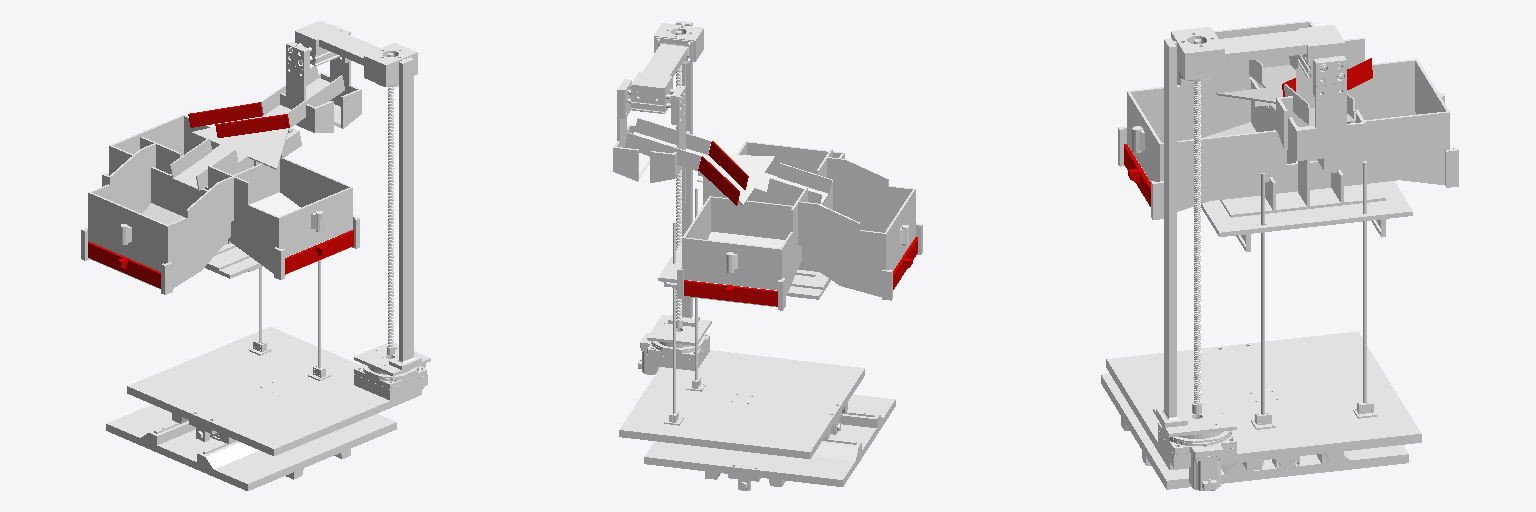
The robot description file, URDF, robot "最后的最后的最后":
<?xml version="1.0" encoding="utf-8"?>
<!-- This URDF was automatically created by SolidWorks to URDF Exporter! Originally created by Stephen Brawner (brawner@gmail.com) 
     Commit Version: 1.6.0-4-g7f85cfe  Build Version: 1.6.7995.38578
     For more information, please see http://wiki.ros.org/sw_urdf_exporter -->
<robot
  name="最后的最后的最后">
  <link
    name="base_link">
    <inertial>
      <origin
        xyz="0.24110979490953 0.291822568049567 0.103607705427784"
        rpy="0 0 0" />
      <mass
        value="4.4265066175815" />
      <inertia
        ixx="0.0417916522581897"
        ixy="0.00672032992907354"
        ixz="3.69122969213001E-07"
        iyy="0.0177326943238271"
        iyz="1.00168760077157E-07"
        izz="0.055291782670404" />
    </inertial>
    <visual>
      <origin
        xyz="0 0 0"
        rpy="0 0 0" />
      <geometry>
        <mesh
          filename="package://最后的最后的最后/meshes/base_link.STL" />
      </geometry>
      <material
        name="">
        <color
          rgba="0.792156862745098 0.819607843137255 0.933333333333333 1" />
      </material>
    </visual>
    <collision>
      <origin
        xyz="0 0 0"
        rpy="0 0 0" />
      <geometry>
        <mesh
          filename="package://最后的最后的最后/meshes/base_link.STL" />
      </geometry>
    </collision>
  </link>
  <link
    name="f-b">
    <inertial>
      <origin
        xyz="0.00232543214158942 0.040761977585475 0.248910014984453"
        rpy="0 0 0" />
      <mass
        value="7.93755284995886" />
      <inertia
        ixx="0.128811100574651"
        ixy="-3.47944796585953E-09"
        ixz="4.49420460872305E-09"
        iyy="0.293446531196313"
        iyz="-2.31633682786989E-06"
        izz="0.165800196892633" />
    </inertial>
    <visual>
      <origin
        xyz="0 0 0"
        rpy="0 0 0" />
      <geometry>
        <mesh
          filename="package://最后的最后的最后/meshes/f-b.STL" />
      </geometry>
      <material
        name="">
        <color
          rgba="1 1 1 1" />
      </material>
    </visual>
    <collision>
      <origin
        xyz="0 0 0"
        rpy="0 0 0" />
      <geometry>
        <mesh
          filename="package://最后的最后的最后/meshes/f-b.STL" />
      </geometry>
    </collision>
  </link>
  <joint
    name="f-b"
    type="prismatic">
    <origin
      xyz="0.2077 0.42305 0.181"
      rpy="1.5708 0 0.25473" />
    <parent
      link="base_link" />
    <child
      link="f-b" />
    <axis
      xyz="0 0 1" />
    <limit
      lower="-0.2"
      upper="0.1"
      effort="0"
      velocity="0" />
  </joint>
  <link
    name="l-r">
    <inertial>
      <origin
        xyz="0.0735939876093558 0.0342987919570049 0.282831564687026"
        rpy="0 0 0" />
      <mass
        value="7.18694221364729" />
      <inertia
        ixx="0.131255772845775"
        ixy="-1.10546393219946E-10"
        ixz="1.53790058126605E-06"
        iyy="0.255549654916926"
        iyz="1.96021269348277E-05"
        izz="0.128346911633879" />
    </inertial>
    <visual>
      <origin
        xyz="0 0 0"
        rpy="0 0 0" />
      <geometry>
        <mesh
          filename="package://最后的最后的最后/meshes/l-r.STL" />
      </geometry>
      <material
        name="">
        <color
          rgba="1 1 1 1" />
      </material>
    </visual>
    <collision>
      <origin
        xyz="0 0 0"
        rpy="0 0 0" />
      <geometry>
        <mesh
          filename="package://最后的最后的最后/meshes/l-r.STL" />
      </geometry>
    </collision>
  </link>
  <joint
    name="l--r"
    type="prismatic">
    <origin
      xyz="-0.1775 0.079 0.35"
      rpy="0 1.5708 0" />
    <parent
      link="f-b" />
    <child
      link="l-r" />
    <axis
      xyz="0 0 1" />
    <limit
      lower="-0.2"
      upper="0.1"
      effort="0"
      velocity="0" />
  </joint>
  <link
    name="claw-roll">
    <inertial>
      <origin
        xyz="-0.0381498375439622 0.164494797429646 -0.306552876405141"
        rpy="0 0 0" />
      <mass
        value="0.810010929466262" />
      <inertia
        ixx="0.0400940649123933"
        ixy="2.41949992283745E-05"
        ixz="-4.50428130335359E-05"
        iyy="0.0312370200213338"
        iyz="0.016460500144677"
        izz="0.00936534310020475" />
    </inertial>
    <visual>
      <origin
        xyz="0 0 0"
        rpy="0 0 0" />
      <geometry>
        <mesh
          filename="package://最后的最后的最后/meshes/claw-roll.STL" />
      </geometry>
      <material
        name="">
        <color
          rgba="1 1 1 1" />
      </material>
    </visual>
    <collision>
      <origin
        xyz="0 0 0"
        rpy="0 0 0" />
      <geometry>
        <mesh
          filename="package://最后的最后的最后/meshes/claw-roll.STL" />
      </geometry>
    </collision>
  </link>
  <joint
    name="claw-roll"
    type="revolute">
    <origin
      xyz="-0.095 0.102 0.4696"
      rpy="1.0786 0 0" />
    <parent
      link="l-r" />
    <child
      link="claw-roll" />
    <axis
      xyz="0 0.47256 -0.8813" />
    <limit
      lower="-1.57"
      upper="0"
      effort="0"
      velocity="0" />
  </joint>
  <link
    name="claw-lift">
    <inertial>
      <origin
        xyz="0.573066062046741 0.179487836867311 1.16603105620362"
        rpy="0 0 0" />
      <mass
        value="1.22007548020093" />
      <inertia
        ixx="0.00294757862136333"
        ixy="0.000466412129818511"
        ixz="-5.82231471563978E-08"
        iyy="0.00127780456123567"
        iyz="2.12117265150278E-07"
        izz="0.00377057018482898" />
    </inertial>
    <visual>
      <origin
        xyz="0 0 0"
        rpy="0 0 0" />
      <geometry>
        <mesh
          filename="package://最后的最后的最后/meshes/claw-lift.STL" />
      </geometry>
      <material
        name="">
        <color
          rgba="1 1 1 1" />
      </material>
    </visual>
    <collision>
      <origin
        xyz="0 0 0"
        rpy="0 0 0" />
      <geometry>
        <mesh
          filename="package://最后的最后的最后/meshes/claw-lift.STL" />
      </geometry>
    </collision>
  </link>
  <joint
    name="claw-lift"
    type="prismatic">
    <origin
      xyz="0.08794 -0.69958 0.035636"
      rpy="3.0073 -0.47497 1.8581" />
    <parent
      link="claw-roll" />
    <child
      link="claw-lift" />
    <axis
      xyz="0 0 1" />
    <limit
      lower="-0.5"
      upper="0"
      effort="0"
      velocity="0" />
  </joint>
  <link
    name="left-claw">
    <inertial>
      <origin
        xyz="0.598000912831375 0.329375717352144 1.04299128665714"
        rpy="0 0 0" />
      <mass
        value="0.321917998526229" />
      <inertia
        ixx="0.000949924691069615"
        ixy="9.89963940288547E-05"
        ixz="-7.93806809192272E-05"
        iyy="0.000595519535464749"
        iyz="-2.06811147189091E-05"
        izz="0.000632016797269796" />
    </inertial>
    <visual>
      <origin
        xyz="0 0 0"
        rpy="0 0 0" />
      <geometry>
        <mesh
          filename="package://最后的最后的最后/meshes/left-claw.STL" />
      </geometry>
      <material
        name="">
        <color
          rgba="1 1 1 1" />
      </material>
    </visual>
    <collision>
      <origin
        xyz="0 0 0"
        rpy="0 0 0" />
      <geometry>
        <mesh
          filename="package://最后的最后的最后/meshes/left-claw.STL" />
      </geometry>
    </collision>
  </link>
  <joint
    name="left-claw"
    type="prismatic">
    <origin
      xyz="0 0 0"
      rpy="0 0 0" />
    <parent
      link="claw-lift" />
    <child
      link="left-claw" />
    <axis
      xyz="-0.96773 -0.25199 0" />
    <limit
      lower="0"
      upper="0.02"
      effort="0"
      velocity="0" />
  </joint>
  <link
    name="right-claw">
    <inertial>
      <origin
        xyz="0.478195656747067 0.298181503848523 1.04299128599104"
        rpy="0 0 0" />
      <mass
        value="0.321917997107331" />
      <inertia
        ixx="0.00094992468254873"
        ixy="9.89964000404664E-05"
        ixz="7.93806818853637E-05"
        iyy="0.000595519540897754"
        iyz="2.06811097039198E-05"
        izz="0.000632016803173059" />
    </inertial>
    <visual>
      <origin
        xyz="0 0 0"
        rpy="0 0 0" />
      <geometry>
        <mesh
          filename="package://最后的最后的最后/meshes/right-claw.STL" />
      </geometry>
      <material
        name="">
        <color
          rgba="1 1 1 1" />
      </material>
    </visual>
    <collision>
      <origin
        xyz="0 0 0"
        rpy="0 0 0" />
      <geometry>
        <mesh
          filename="package://最后的最后的最后/meshes/right-claw.STL" />
      </geometry>
    </collision>
  </link>
  <joint
    name="right-claw"
    type="prismatic">
    <origin
      xyz="0 0 0"
      rpy="0 0 0" />
    <parent
      link="claw-lift" />
    <child
      link="right-claw" />
    <axis
      xyz="-0.96773 -0.25199 0" />
    <limit
      lower="-0.02"
      upper="0"
      effort="0"
      velocity="0" />
  </joint>
  <link
    name="store">
    <inertial>
      <origin
        xyz="0.217318817478146 0.238698485235408 0.802094941846696"
        rpy="0 0 0" />
      <mass
        value="7.66969906694019" />
      <inertia
        ixx="0.172367193517513"
        ixy="0.00312782258273803"
        ixz="0.000367029541851867"
        iyy="0.162376195331769"
        iyz="2.13874608519724E-05"
        izz="0.30089719748078" />
    </inertial>
    <visual>
      <origin
        xyz="0 0 0"
        rpy="0 0 0" />
      <geometry>
        <mesh
          filename="package://最后的最后的最后/meshes/store.STL" />
      </geometry>
      <material
        name="">
        <color
          rgba="1 1 1 1" />
      </material>
    </visual>
    <collision>
      <origin
        xyz="0 0 0"
        rpy="0 0 0" />
      <geometry>
        <mesh
          filename="package://最后的最后的最后/meshes/store.STL" />
      </geometry>
    </collision>
  </link>
  <joint
    name="store-lift"
    type="prismatic">
    <origin
      xyz="-0.0070604 -0.26 -0.1301"
      rpy="1.5708 -1.3161 3.1416" />
    <parent
      link="l-r" />
    <child
      link="store" />
    <axis
      xyz="0 0 1" />
    <limit
      lower="-0.3"
      upper="0.1"
      effort="0"
      velocity="0" />
  </joint>
  <link
    name="l-gate">
    <inertial>
      <origin
        xyz="0.174104216461773 0.543236336469607 0.772085060901818"
        rpy="0 0 0" />
      <mass
        value="0.0881827385868019" />
      <inertia
        ixx="4.32594608889274E-05"
        ixy="-0.000113943348812263"
        ixz="2.16974091277153E-07"
        iyy="0.000451180970636848"
        iyz="-8.33272880962757E-07"
        izz="0.000470305288650628" />
    </inertial>
    <visual>
      <origin
        xyz="0 0 0"
        rpy="0 0 0" />
      <geometry>
        <mesh
          filename="package://最后的最后的最后/meshes/l-gate.STL" />
      </geometry>
      <material
        name="">
        <color
          rgba="0.92 0.04 0.02 1" />
      </material>
    </visual>
    <collision>
      <origin
        xyz="0 0 0"
        rpy="0 0 0" />
      <geometry>
        <mesh
          filename="package://最后的最后的最后/meshes/l-gate.STL" />
      </geometry>
    </collision>
  </link>
  <joint
    name="l-gate"
    type="prismatic">
    <origin
      xyz="0 0 0"
      rpy="0 0 0" />
    <parent
      link="store" />
    <child
      link="l-gate" />
    <axis
      xyz="0 0 1" />
    <limit
      lower="0"
      upper="0.04"
      effort="0"
      velocity="0" />
  </joint>
  <link
    name="r-gate">
    <inertial>
      <origin
        xyz="0.327701660124245 -0.0466432368757868 0.772085055238923"
        rpy="0 0 0" />
      <mass
        value="0.0881827385868016" />
      <inertia
        ixx="4.32594608889273E-05"
        ixy="-0.000113943348812262"
        ixz="-2.16974091276088E-07"
        iyy="0.000451180970636846"
        iyz="8.33272880963198E-07"
        izz="0.000470305288650627" />
    </inertial>
    <visual>
      <origin
        xyz="0 0 0"
        rpy="0 0 0" />
      <geometry>
        <mesh
          filename="package://最后的最后的最后/meshes/r-gate.STL" />
      </geometry>
      <material
        name="">
        <color
          rgba="0.92 0.04 0.02 1" />
      </material>
    </visual>
    <collision>
      <origin
        xyz="0 0 0"
        rpy="0 0 0" />
      <geometry>
        <mesh
          filename="package://最后的最后的最后/meshes/r-gate.STL" />
      </geometry>
    </collision>
  </link>
  <joint
    name="r-gate"
    type="prismatic">
    <origin
      xyz="0 0 0"
      rpy="0 0 0" />
    <parent
      link="store" />
    <child
      link="r-gate" />
    <axis
      xyz="0 0 1" />
    <limit
      lower="0"
      upper="0.04"
      effort="0"
      velocity="0" />
  </joint>
  <link
    name="f-gate">
    <inertial>
      <origin
        xyz="-0.102049992558201 0.156391913051368 0.755035095669147"
        rpy="0 0 0" />
      <mass
        value="0.0945827385868017" />
      <inertia
        ixx="0.000561323653182042"
        ixy="0.000142390294710613"
        ixz="8.36575444040851E-07"
        iyy="5.15609983428756E-05"
        iyz="2.17834038404111E-07"
        izz="0.000587036334975747" />
    </inertial>
    <visual>
      <origin
        xyz="0 0 0"
        rpy="0 0 0" />
      <geometry>
        <mesh
          filename="package://最后的最后的最后/meshes/f-gate.STL" />
      </geometry>
      <material
        name="">
        <color
          rgba="0.92 0.04 0.02 1" />
      </material>
    </visual>
    <collision>
      <origin
        xyz="0 0 0"
        rpy="0 0 0" />
      <geometry>
        <mesh
          filename="package://最后的最后的最后/meshes/f-gate.STL" />
      </geometry>
    </collision>
  </link>
  <joint
    name="f-gate"
    type="prismatic">
    <origin
      xyz="0 0 0"
      rpy="0 0 0" />
    <parent
      link="store" />
    <child
      link="f-gate" />
    <axis
      xyz="0 0 1" />
    <limit
      lower="0"
      upper="0.04"
      effort="0"
      velocity="0" />
  </joint>
  <link
    name="l-bank">
    <inertial>
      <origin
        xyz="-0.0790111966307153 0.0381081298689115 -1.11022302462516E-16"
        rpy="0 0 0" />
      <mass
        value="0.0291728205433942" />
      <inertia
        ixx="1.9151175753981E-05"
        ixy="3.15592503409E-05"
        ixz="-5.9292306307801E-21"
        iyy="6.936286587005E-05"
        iyz="5.50571415715295E-21"
        izz="8.07346228124592E-05" />
    </inertial>
    <visual>
      <origin
        xyz="0 0 0"
        rpy="0 0 0" />
      <geometry>
        <mesh
          filename="package://最后的最后的最后/meshes/l-bank.STL" />
      </geometry>
      <material
        name="">
        <color
          rgba="0.92 0.04 0.02 1" />
      </material>
    </visual>
    <collision>
      <origin
        xyz="0 0 0"
        rpy="0 0 0" />
      <geometry>
        <mesh
          filename="package://最后的最后的最后/meshes/l-bank.STL" />
      </geometry>
    </collision>
  </link>
  <joint
    name="l-bank"
    type="revolute">
    <origin
      xyz="0.3845 0.33211 0.99894"
      rpy="0.059003 -0.20472 -0.028058" />
    <parent
      link="store" />
    <child
      link="l-bank" />
    <axis
      xyz="0 0 1" />
    <limit
      lower="0"
      upper="1.32"
      effort="0"
      velocity="0" />
  </joint>
  <link
    name="r-bank">
    <inertial>
      <origin
        xyz="-0.0777843182664049 0.0405536507228884 1.11022302462516E-16"
        rpy="0 0 0" />
      <mass
        value="0.029172820543394" />
      <inertia
        ixx="2.11674775921455E-05"
        ixy="3.30630115394134E-05"
        ixz="2.5410988417629E-20"
        iyy="6.73465640318848E-05"
        iyz="-5.0821976835258E-21"
        izz="8.07346228124587E-05" />
    </inertial>
    <visual>
      <origin
        xyz="0 0 0"
        rpy="0 0 0" />
      <geometry>
        <mesh
          filename="package://最后的最后的最后/meshes/r-bank.STL" />
      </geometry>
      <material
        name="">
        <color
          rgba="0.92 0.04 0.02 1" />
      </material>
    </visual>
    <collision>
      <origin
        xyz="0 0 0"
        rpy="0 0 0" />
      <geometry>
        <mesh
          filename="package://最后的最后的最后/meshes/r-bank.STL" />
      </geometry>
    </collision>
  </link>
  <joint
    name="r-bank"
    type="revolute">
    <origin
      xyz="0.40868 0.23919 0.99893"
      rpy="0.059003 -0.20472 -0.028058" />
    <parent
      link="store" />
    <child
      link="r-bank" />
    <axis
      xyz="0 0 1" />
    <limit
      lower="0"
      upper="1.32"
      effort="0"
      velocity="0" />
  </joint>
</robot>

--- What the picture shows (computed from the rendered views, not written in the file) ---
3 views of the same robot in one strip: view 1: azimuth 30°, elevation 25°; view 2: azimuth 150°, elevation 25°; view 3: azimuth 270°, elevation 25° (orthographic).
Model 最后的最后的最后 with 13 links and 12 joints (3 revolute, 9 prismatic), rooted at base_link, posed all joints at 0.
Visible links, largest first — view 1: store, l-r, f-b, claw-roll, claw-lift, right-claw, left-claw, f-gate, r-gate, l-bank, r-bank; view 2: store, l-r, f-b, claw-lift, claw-roll, left-claw, right-claw, l-gate, l-bank, r-bank; view 3: store, l-r, claw-roll, claw-lift, f-b, left-claw, right-claw, r-gate, l-bank.
Boxes of the visible links, box(x1,y1,x2,y2) form: store: box(81, 65, 359, 294); l-r: box(127, 260, 427, 455); f-b: box(106, 404, 396, 490); claw-roll: box(354, 53, 430, 376); claw-lift: box(295, 21, 417, 86); right-claw: box(275, 42, 333, 132); left-claw: box(318, 25, 361, 128); f-gate: box(88, 241, 160, 288); r-gate: box(285, 230, 353, 274); l-bank: box(188, 102, 262, 127); r-bank: box(215, 114, 289, 137); store: box(624, 117, 922, 310); l-r: box(619, 188, 864, 458); f-b: box(644, 394, 895, 490); claw-lift: box(631, 23, 703, 113); claw-roll: box(647, 21, 711, 345); left-claw: box(613, 79, 649, 181); right-claw: box(650, 86, 689, 182); l-gate: box(684, 280, 777, 306); l-bank: box(698, 156, 739, 205); r-bank: box(708, 141, 748, 189); store: box(1118, 21, 1458, 251); l-r: box(1106, 161, 1421, 490); claw-roll: box(1153, 38, 1236, 437); claw-lift: box(1171, 25, 1344, 81); f-b: box(1101, 373, 1408, 489); left-claw: box(1288, 56, 1365, 160); right-claw: box(1276, 55, 1353, 150); r-gate: box(1124, 144, 1150, 206); l-bank: box(1347, 58, 1372, 89).
Bounding box of the posed robot: 0.857 × 0.7152 × 1.05 m (x, y, z).
12 mesh visuals loaded from 13 distinct referenced files (12 binary STL); not drawn: 1 (reference not matched to a file when rendering).
